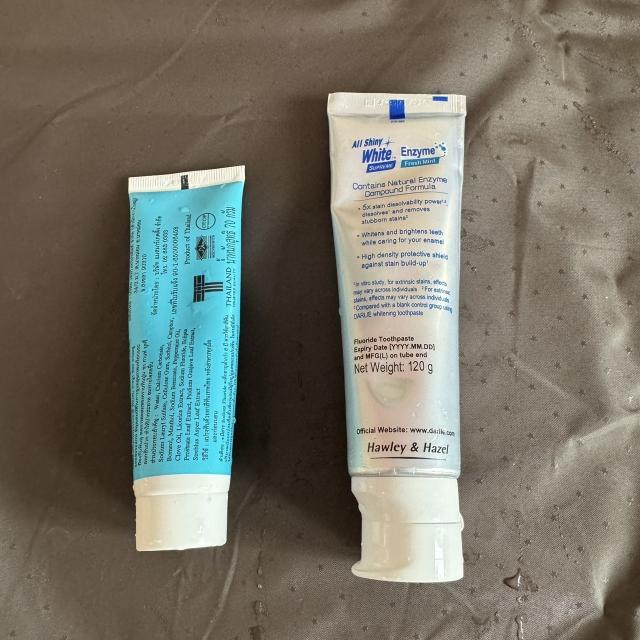Squeeze Tube: (314, 84, 520, 591), (126, 149, 252, 567)
